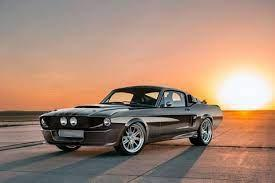car: (32, 81, 234, 156)
